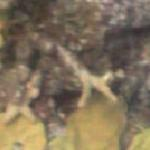alive: (4, 3, 148, 147)
